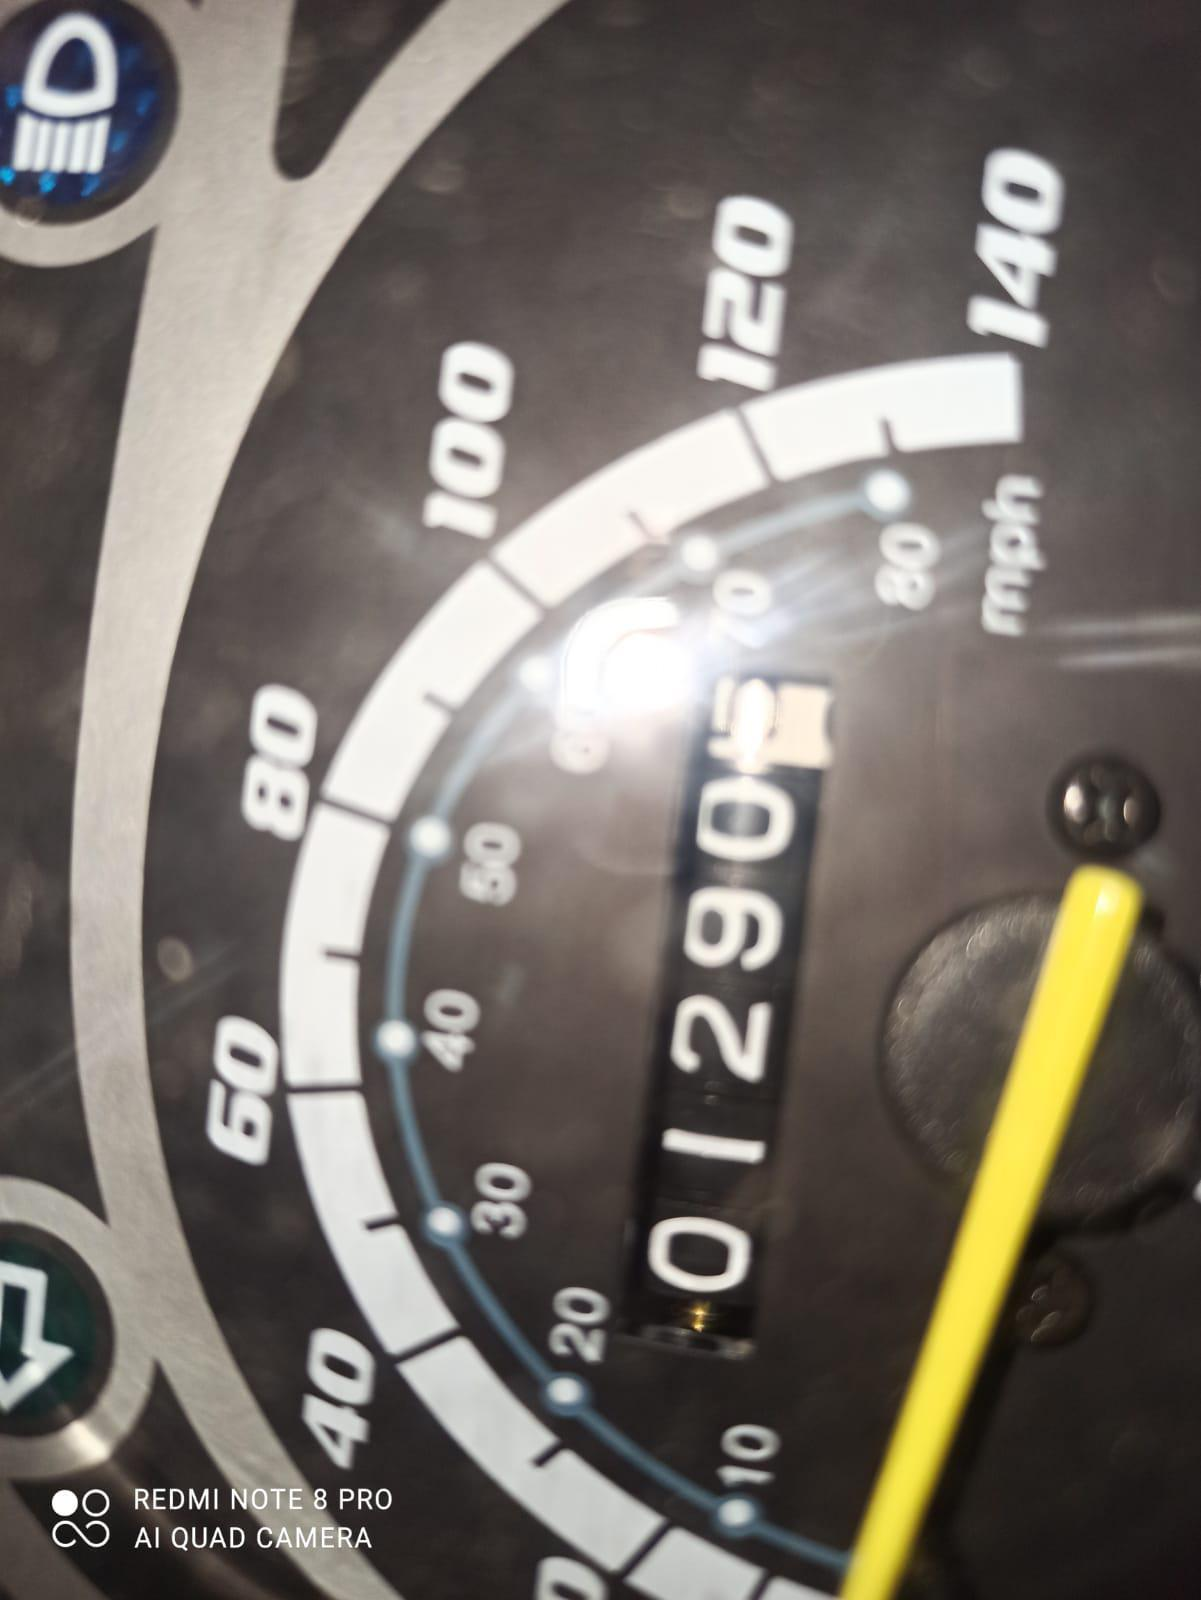0: (675, 774, 821, 867), (640, 1211, 780, 1309)
1: (628, 1121, 806, 1190)
2: (660, 999, 788, 1097)
5: (690, 660, 799, 757)
9: (669, 886, 806, 979)
odometer: (613, 650, 841, 1370)
